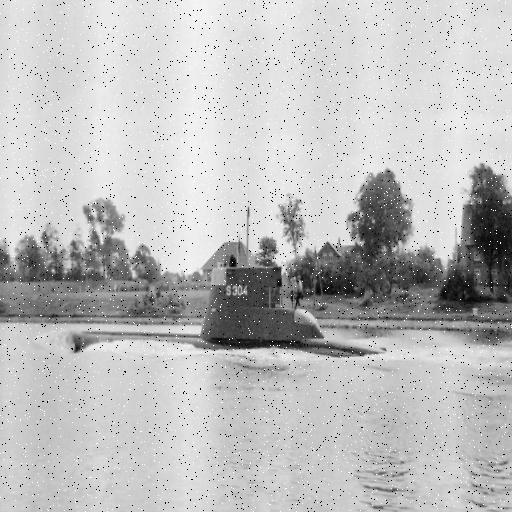submarine: (68, 268, 386, 359)
